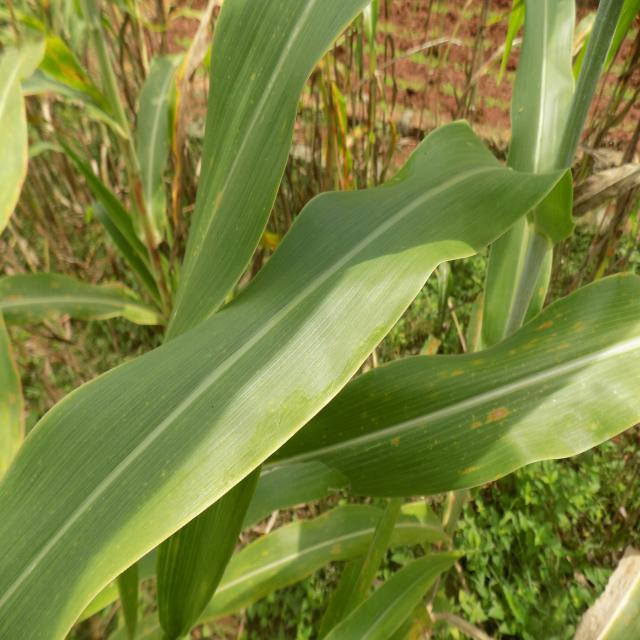millet_healthy: (0, 121, 564, 639), (0, 121, 563, 639), (270, 274, 640, 497), (164, 0, 366, 341), (102, 500, 448, 639), (325, 551, 462, 640), (507, 0, 576, 172)
